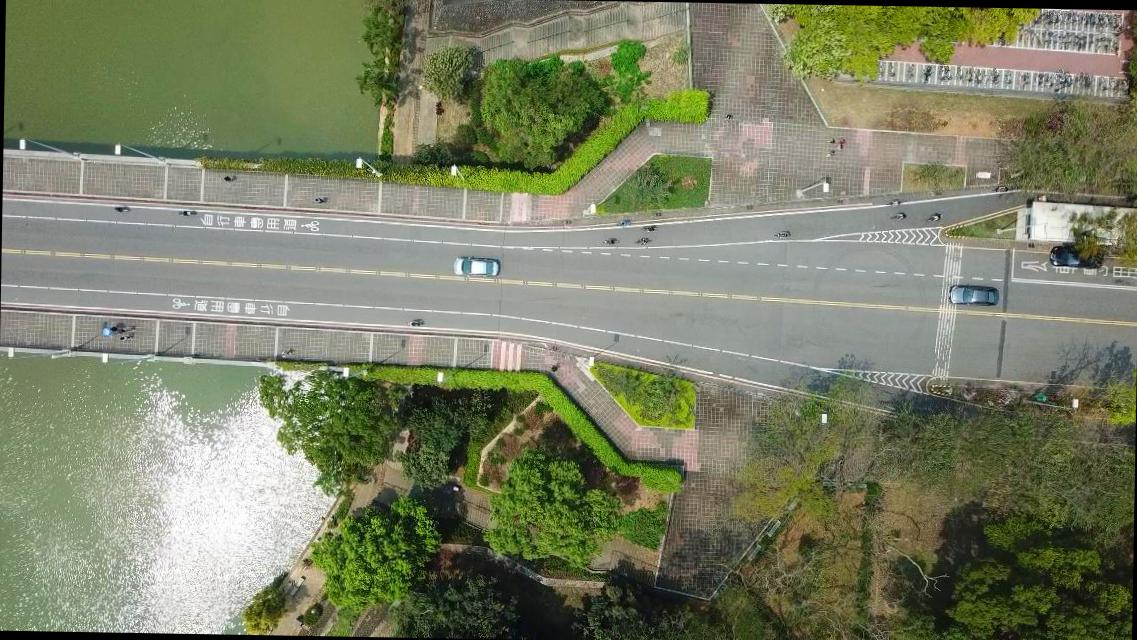vehicle: (1049, 244, 1104, 268), (948, 284, 998, 306), (453, 256, 500, 278)
